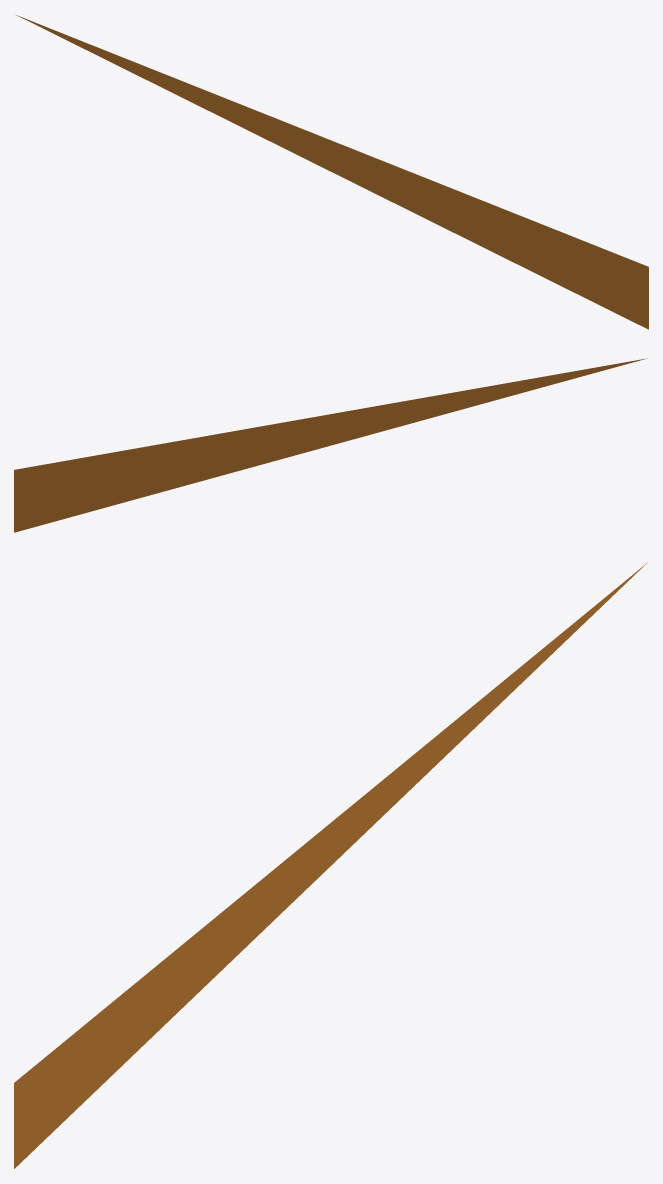
3 views of the same model, one above another, from view 1: azimuth 30°, elevation 25°; view 2: azimuth 210°, elevation 25°; view 3: azimuth 270°, elevation 25° (orthographic). The views are drawn at different scales.
Parts seen in each view (by area): view 1: A-ROOF-PENDING-JOIN-5-LOW-RIGHT-0-1; view 2: A-ROOF-PENDING-JOIN-5-LOW-RIGHT-0-1; view 3: A-ROOF-PENDING-JOIN-5-LOW-RIGHT-0-1.
Boxes of the visible parts, <box> form: A-ROOF-PENDING-JOIN-5-LOW-RIGHT-0-1: <box>16,15,648,329</box>; A-ROOF-PENDING-JOIN-5-LOW-RIGHT-0-1: <box>14,358,647,532</box>; A-ROOF-PENDING-JOIN-5-LOW-RIGHT-0-1: <box>14,562,647,1168</box>.
Bounding box in the file's own units: 0.861 × 0.4994 × 0.8527.
